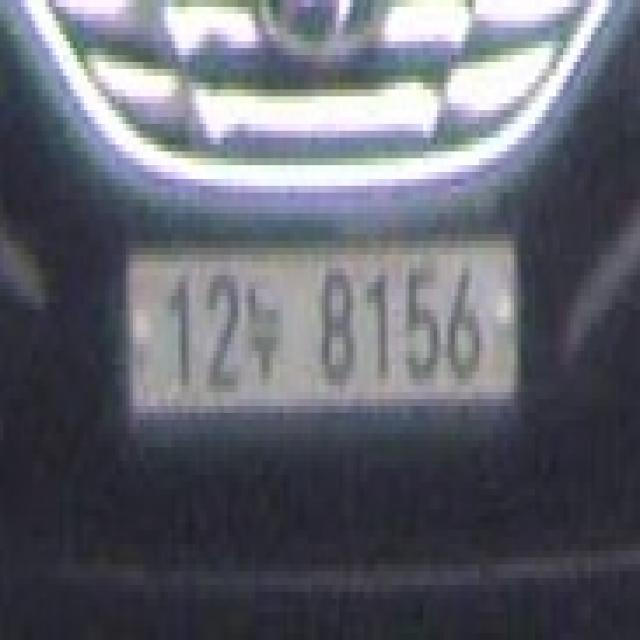1: (356, 262, 398, 406), (164, 261, 200, 420)
2: (200, 261, 242, 413)
5: (402, 262, 441, 399)
6: (440, 262, 490, 399)
8: (311, 262, 364, 399)
license_plate: (115, 220, 528, 448)
nu: (241, 275, 287, 406)
